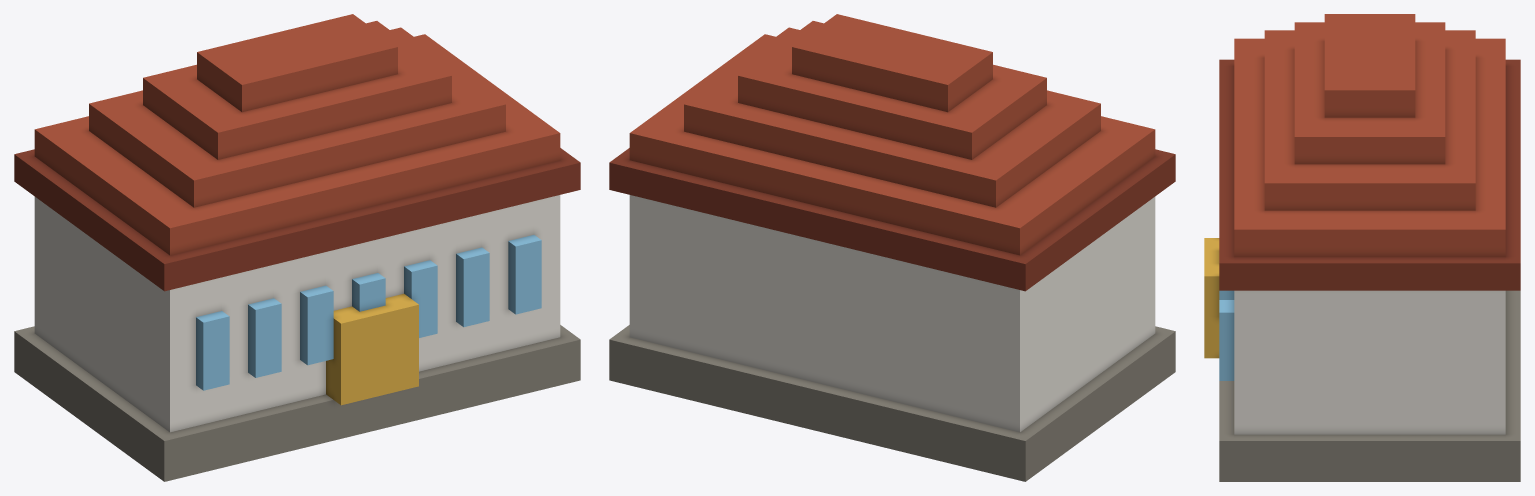
File: w_palace.glb
3 views of the same model, side by side, from view 1: azimuth 30°, elevation 25°; view 2: azimuth 150°, elevation 25°; view 3: azimuth 270°, elevation 25° (orthographic).
Visible parts, largest first — view 1: w_palace_body; view 2: w_palace_body; view 3: w_palace_body.
Part boxes in pixels (x1=…): w_palace_body: x1=14, y1=14, x2=580, y2=481; w_palace_body: x1=609, y1=14, x2=1175, y2=481; w_palace_body: x1=1204, y1=14, x2=1520, y2=481.
Size of the model in its own units: 2 by 1.5 by 1.31.
1 material, 1 textured.
